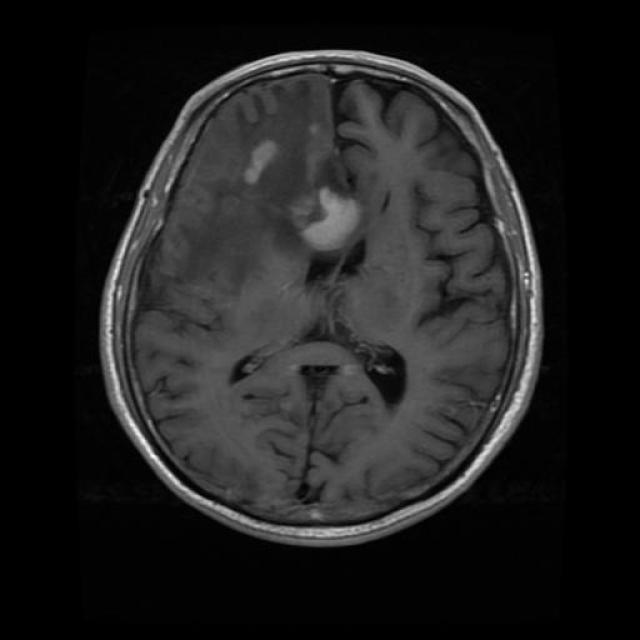brain_tumor: (299, 189, 360, 251), (244, 140, 278, 183)
